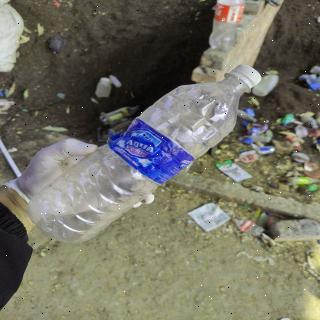Plastic-bottle: (24, 61, 267, 248)
